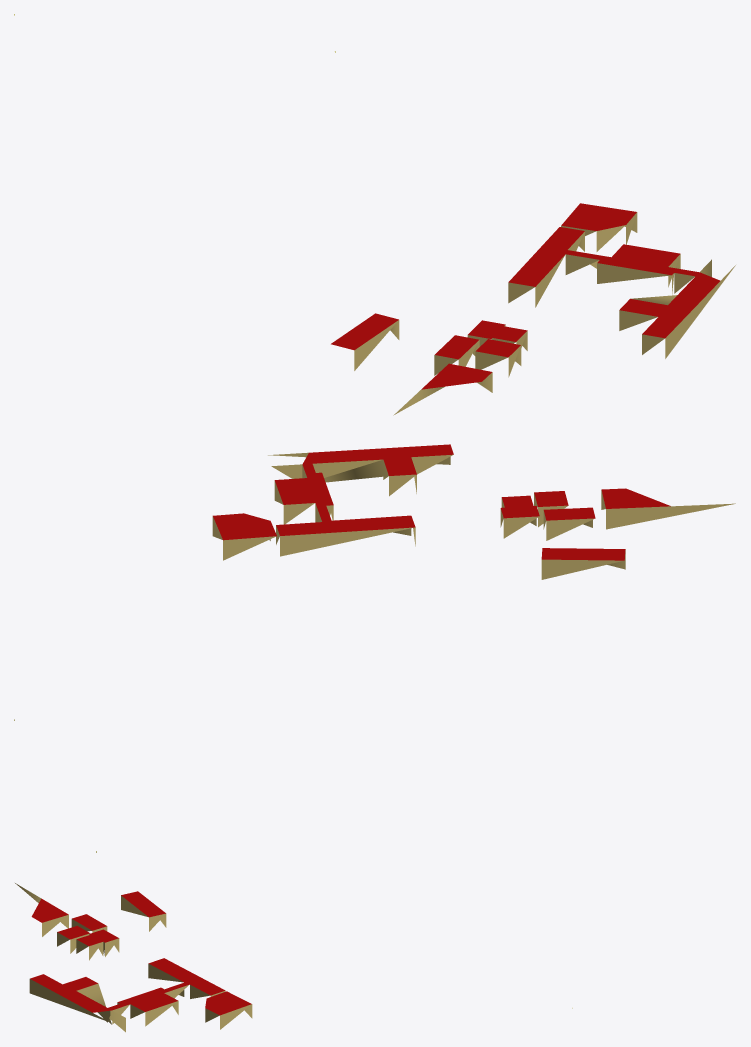
3 views of the same model, one above another, from view 1: azimuth 30°, elevation 25°; view 2: azimuth 150°, elevation 25°; view 3: azimuth 270°, elevation 25° (orthographic). The views are drawn at different scales.
Bounding box in the file's own units: 154 × 7.5 × 334.
